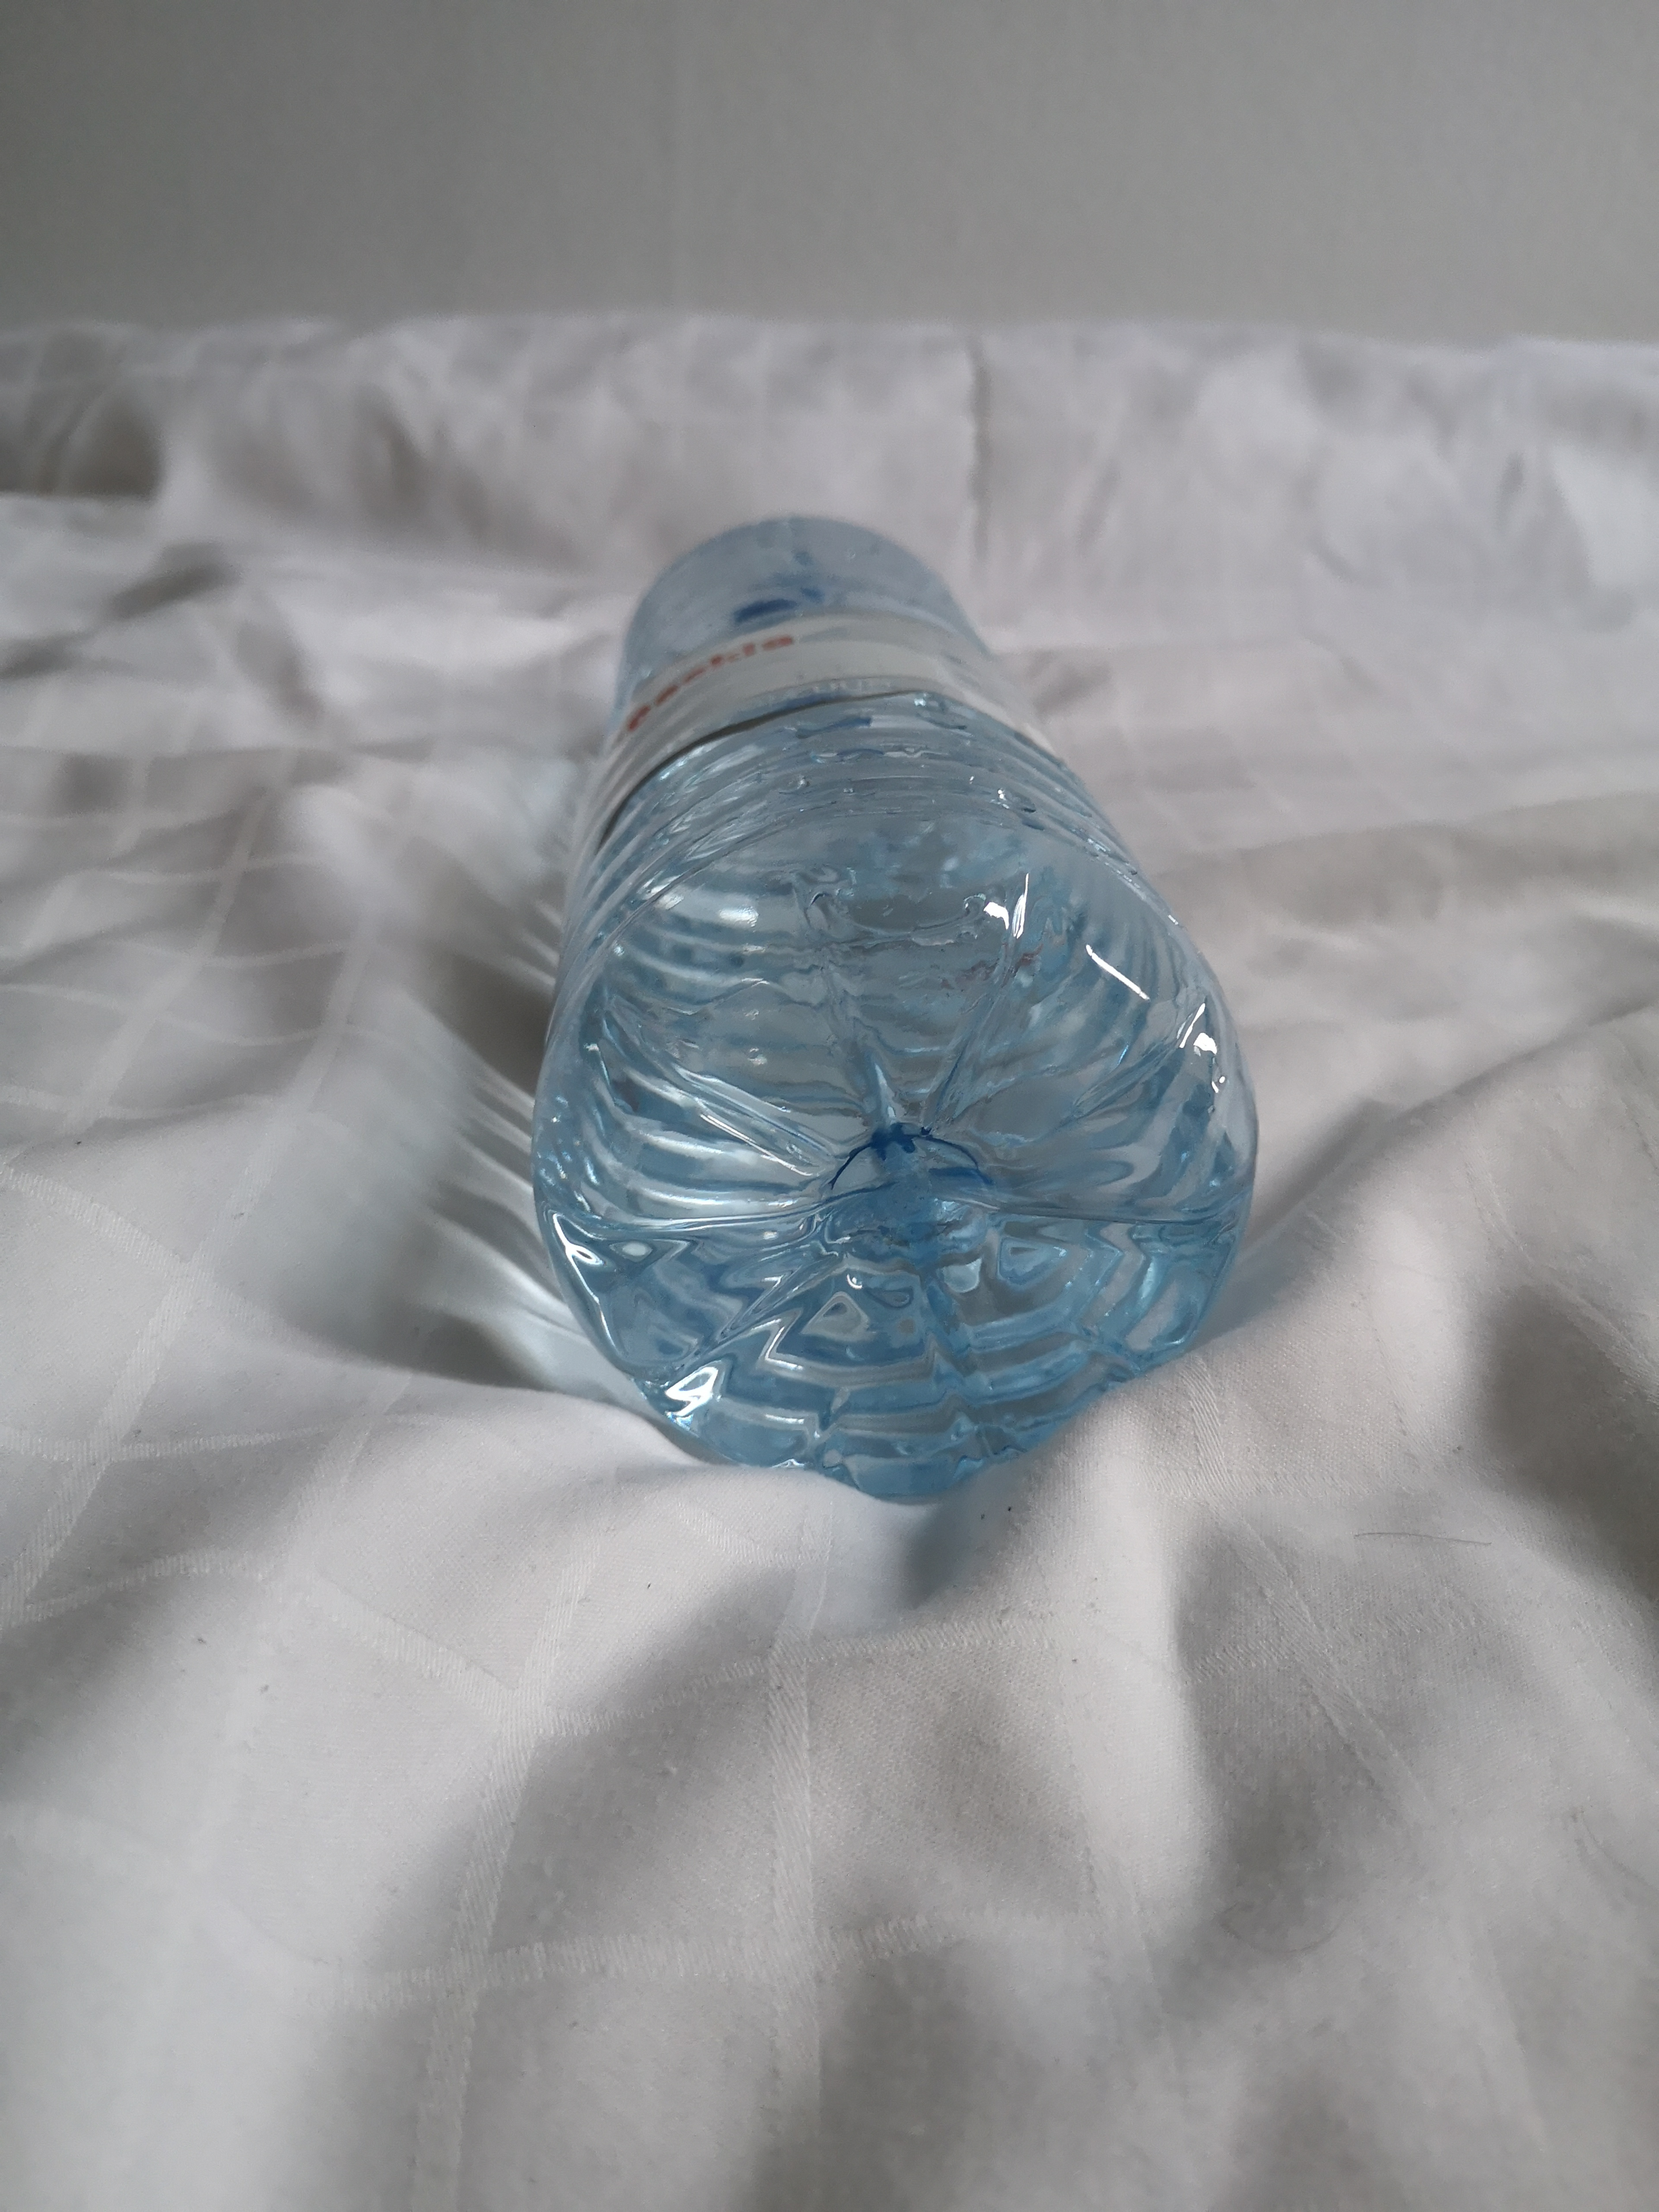plastic_bottle: (488, 489, 1326, 1508)
